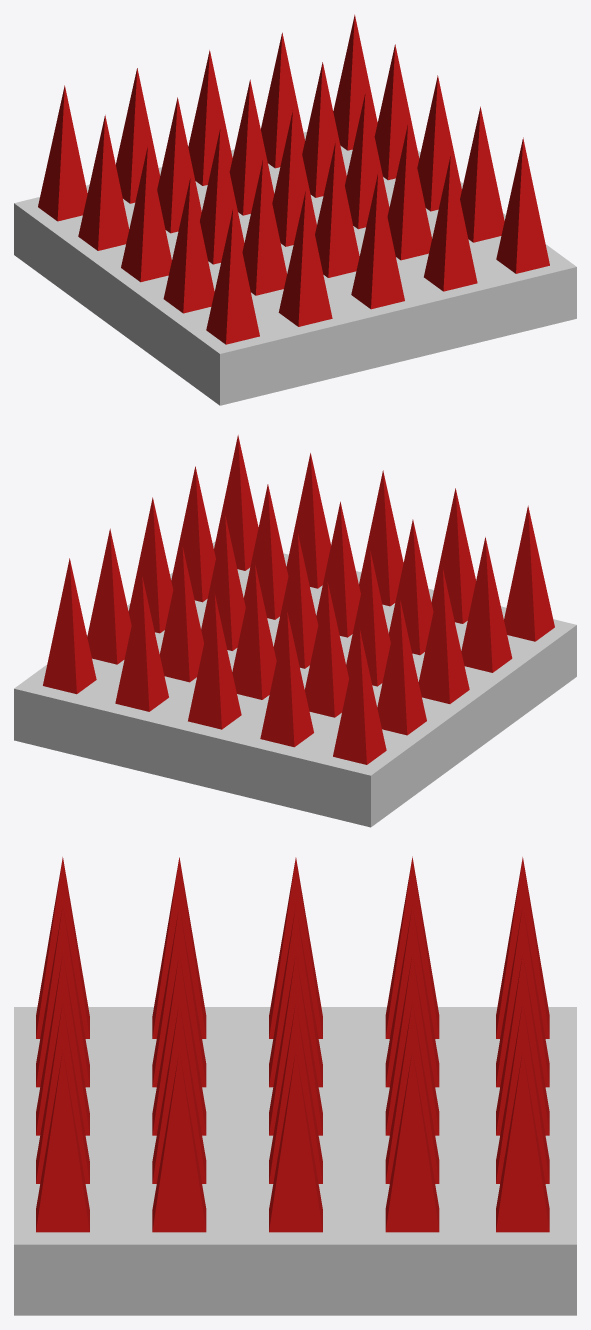
File: Platform_Spike_short_merge.FBX
3 views of the same model, one above another, from view 1: azimuth 30°, elevation 25°; view 2: azimuth 150°, elevation 25°; view 3: azimuth 270°, elevation 25° (orthographic). The views are drawn at different scales.
Visible parts, largest first — view 1: Platform_Spike_short_merge; view 2: Platform_Spike_short_merge; view 3: Platform_Spike_short_merge.
Boxes of the visible parts, bbox=[...] form: Platform_Spike_short_merge: bbox=[14, 14, 576, 405]; Platform_Spike_short_merge: bbox=[14, 435, 576, 827]; Platform_Spike_short_merge: bbox=[14, 856, 576, 1315].
Size of the model in its own units: 20 by 9.48 by 20.
